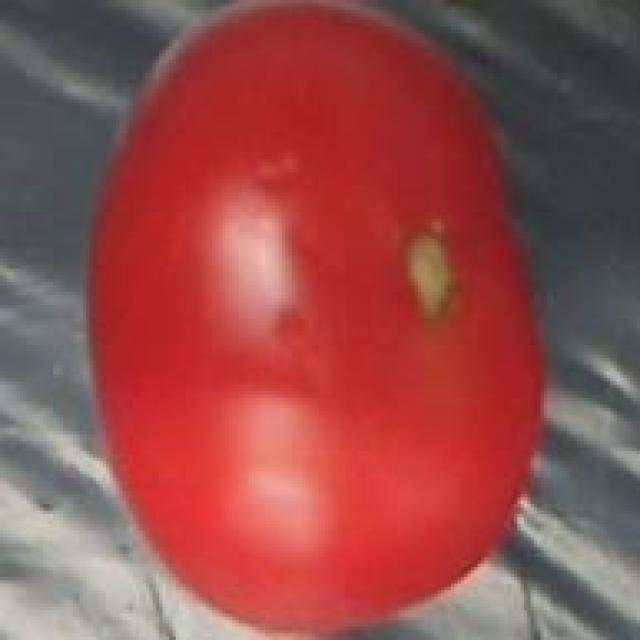overripe tomato: (73, 0, 550, 640)
